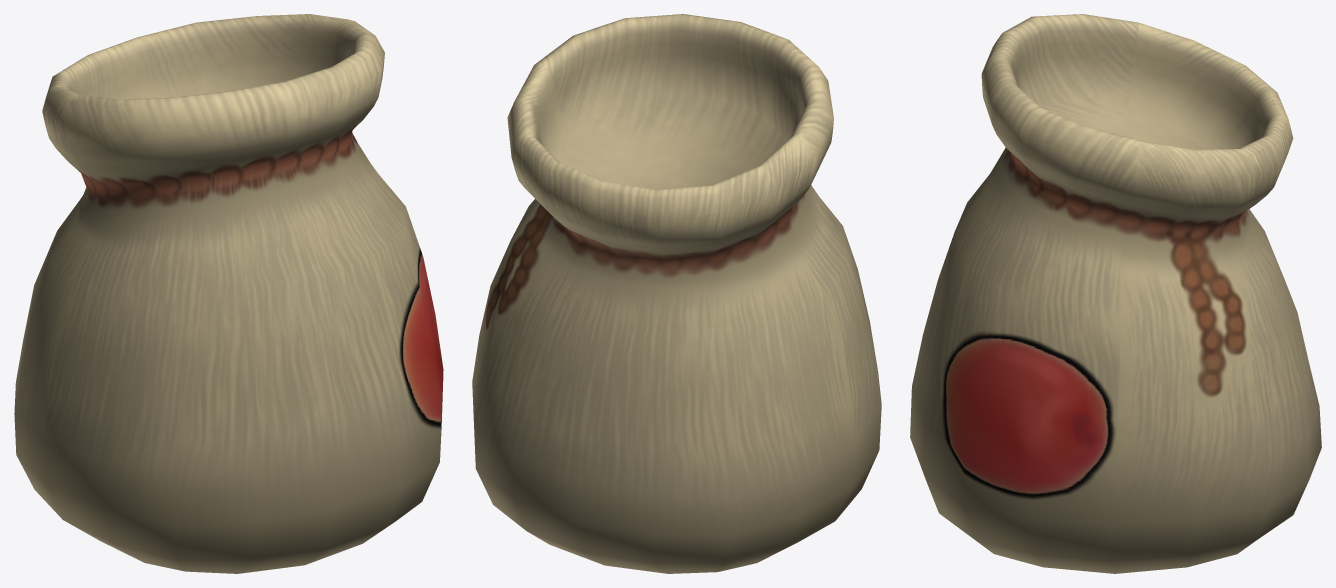
Rendered from Model_TexturaSacoAberto2Cafe_v1.fbx.
3 renders of one model, left to right at view 1: azimuth 30°, elevation 25°; view 2: azimuth 150°, elevation 25°; view 3: azimuth 270°, elevation 25°, orthographic. The views are drawn at different scales.
Parts seen in each view (by area): view 1: saco torto; view 2: saco torto; view 3: saco torto.
Part boxes in pixels (x1,y1,x2,y2): saco torto: [14, 14, 443, 573]; saco torto: [472, 14, 881, 573]; saco torto: [910, 14, 1321, 573].
Size of the model in its own units: 233 by 292 by 231.
